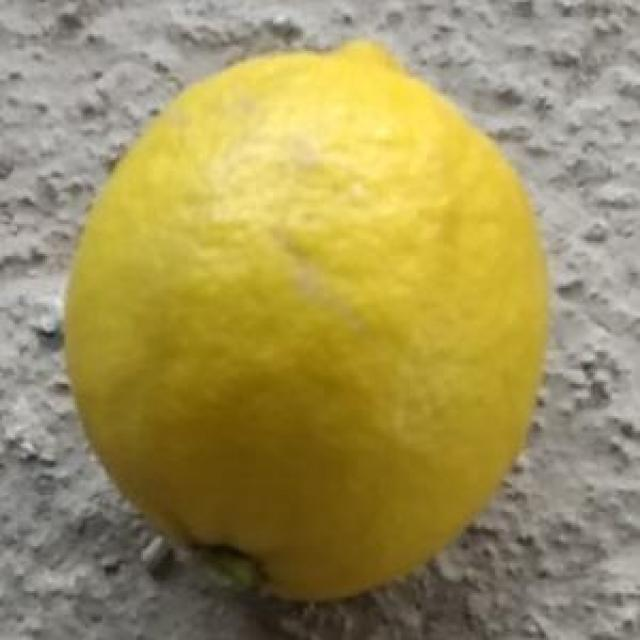lemon: (64, 36, 546, 604)
